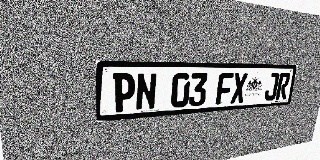0: (170, 73, 191, 108)
3: (188, 73, 208, 107)
F: (216, 73, 234, 105)
J: (264, 73, 280, 101)
N: (135, 73, 157, 111)
P: (113, 73, 136, 113)
R: (275, 73, 291, 100)
X: (230, 73, 248, 104)
